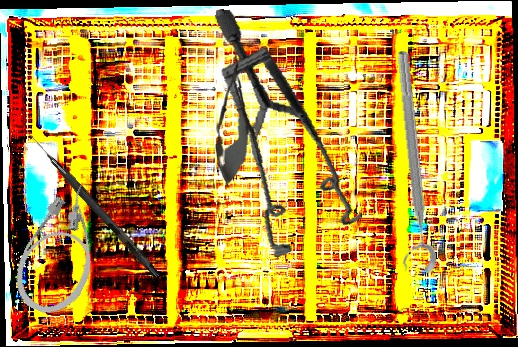Cannula: (3, 175, 123, 324)
Fixation Ring: (379, 49, 438, 278)
Hook Surgical: (22, 129, 163, 279)
Micro Scissor: (212, 44, 254, 188)
Speculum: (175, 8, 394, 271)
